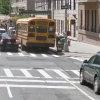Crosswalk: (2, 62, 81, 85)
